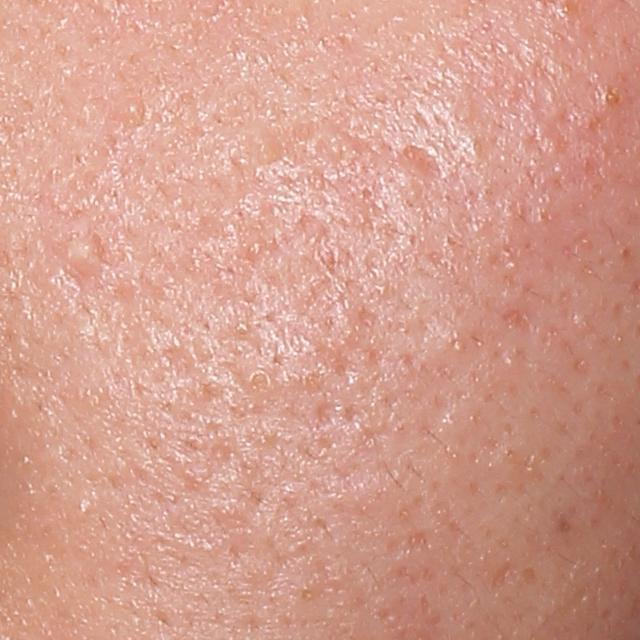atrophic_scar: (399, 140, 443, 180), (490, 555, 515, 593)
comedo: (241, 366, 277, 394), (596, 82, 629, 110), (120, 95, 146, 121)
